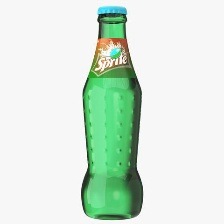bottle: (77, 2, 159, 221)
